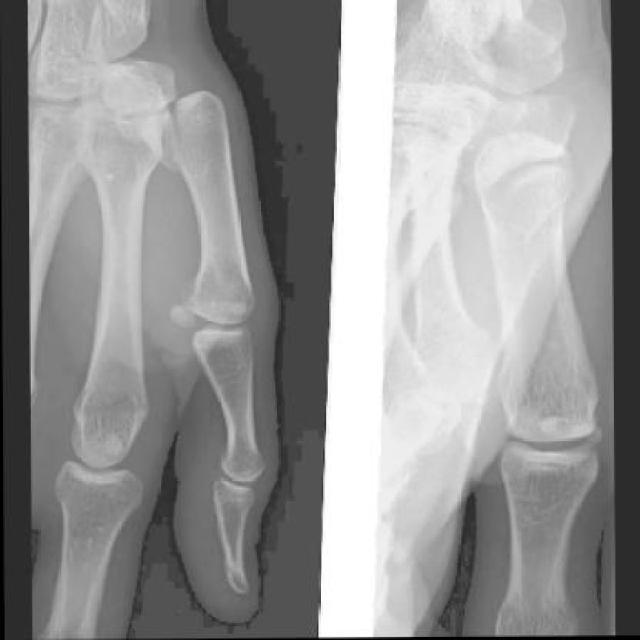Fracture: (476, 169, 572, 248), (139, 103, 201, 174)
